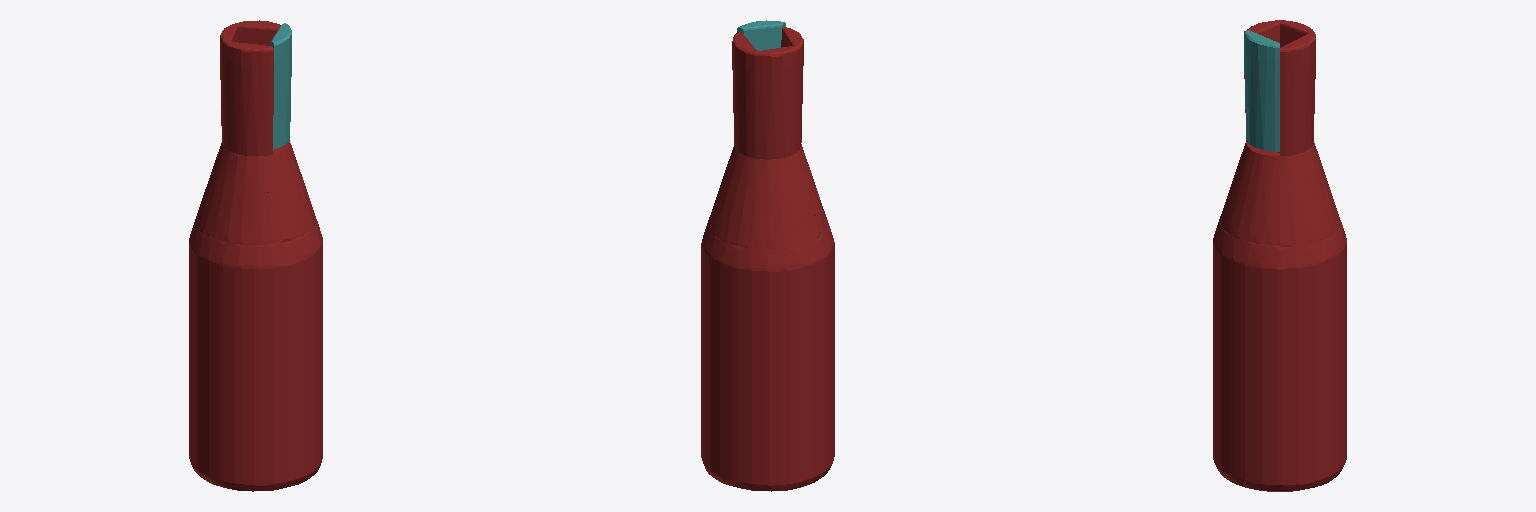
The robot description file, URDF, robot "root":
<robot name="root">
  <link name="bottle_body">
    <inertial>
      <origin xyz="0 0 0" rpy="0 0 0"/>
    </inertial>
    <mass value="1.00E-02"/>
    <visual>
      <origin xyz="0 0 0" rpy="0 0 0"/>
      <geometry>
        <mesh filename="core-bottle-244894af3ba967ccd957eaf7f4edb205-coacd_convex_piece_5.obj" scale="1.0000E-01 1.0000E-01 1.0000E-01"/>
      </geometry>
      <material name="">
        <color rgba="6.00E-01 2.00E-01 2.00E-01 1"/>
      </material>
    </visual>
    <collision>
      <origin xyz="0 0 0" rpy="0 0 0"/>
      <geometry>
        <mesh filename="core-bottle-244894af3ba967ccd957eaf7f4edb205-coacd_convex_piece_5.obj" scale="1.0000E-01 1.0000E-01 1.0000E-01"/>
      </geometry>
    </collision>
    <visual>
      <origin xyz="0 0 0" rpy="0 0 0"/>
      <geometry>
        <mesh filename="core-bottle-244894af3ba967ccd957eaf7f4edb205-coacd_convex_piece_3.obj" scale="1.0000E-01 1.0000E-01 1.0000E-01"/>
      </geometry>
      <material name="">
        <color rgba="6.00E-01 2.00E-01 2.00E-01 1"/>
      </material>
    </visual>
    <collision>
      <origin xyz="0 0 0" rpy="0 0 0"/>
      <geometry>
        <mesh filename="core-bottle-244894af3ba967ccd957eaf7f4edb205-coacd_convex_piece_3.obj" scale="1.0000E-01 1.0000E-01 1.0000E-01"/>
      </geometry>
    </collision>
    <visual>
      <origin xyz="0 0 0" rpy="0 0 0"/>
      <geometry>
        <mesh filename="core-bottle-244894af3ba967ccd957eaf7f4edb205-coacd_convex_piece_4.obj" scale="1.0000E-01 1.0000E-01 1.0000E-01"/>
      </geometry>
      <material name="">
        <color rgba="6.00E-01 2.00E-01 2.00E-01 1"/>
      </material>
    </visual>
    <collision>
      <origin xyz="0 0 0" rpy="0 0 0"/>
      <geometry>
        <mesh filename="core-bottle-244894af3ba967ccd957eaf7f4edb205-coacd_convex_piece_4.obj" scale="1.0000E-01 1.0000E-01 1.0000E-01"/>
      </geometry>
    </collision>
    <visual>
      <origin xyz="0 0 0" rpy="0 0 0"/>
      <geometry>
        <mesh filename="core-bottle-244894af3ba967ccd957eaf7f4edb205-coacd_convex_piece_2.obj" scale="1.0000E-01 1.0000E-01 1.0000E-01"/>
      </geometry>
      <material name="">
        <color rgba="6.00E-01 2.00E-01 2.00E-01 1"/>
      </material>
    </visual>
    <collision>
      <origin xyz="0 0 0" rpy="0 0 0"/>
      <geometry>
        <mesh filename="core-bottle-244894af3ba967ccd957eaf7f4edb205-coacd_convex_piece_2.obj" scale="1.0000E-01 1.0000E-01 1.0000E-01"/>
      </geometry>
    </collision>
    <visual>
      <origin xyz="0 0 0" rpy="0 0 0"/>
      <geometry>
        <mesh filename="core-bottle-244894af3ba967ccd957eaf7f4edb205-coacd_convex_piece_1.obj" scale="1.0000E-01 1.0000E-01 1.0000E-01"/>
      </geometry>
      <material name="">
        <color rgba="6.00E-01 2.00E-01 2.00E-01 1"/>
      </material>
    </visual>
    <collision>
      <origin xyz="0 0 0" rpy="0 0 0"/>
      <geometry>
        <mesh filename="core-bottle-244894af3ba967ccd957eaf7f4edb205-coacd_convex_piece_1.obj" scale="1.0000E-01 1.0000E-01 1.0000E-01"/>
      </geometry>
    </collision>
    <visual>
      <origin xyz="0 0 0" rpy="0 0 0"/>
      <geometry>
        <mesh filename="core-bottle-244894af3ba967ccd957eaf7f4edb205-coacd_convex_piece_6.obj" scale="1.0000E-01 1.0000E-01 1.0000E-01"/>
      </geometry>
      <material name="">
        <color rgba="6.00E-01 2.00E-01 2.00E-01 1"/>
      </material>
    </visual>
    <collision>
      <origin xyz="0 0 0" rpy="0 0 0"/>
      <geometry>
        <mesh filename="core-bottle-244894af3ba967ccd957eaf7f4edb205-coacd_convex_piece_6.obj" scale="1.0000E-01 1.0000E-01 1.0000E-01"/>
      </geometry>
    </collision>
    <visual>
      <origin xyz="0 0 0" rpy="0 0 0"/>
      <geometry>
        <mesh filename="core-bottle-244894af3ba967ccd957eaf7f4edb205-coacd_convex_piece_8.obj" scale="1.0000E-01 1.0000E-01 1.0000E-01"/>
      </geometry>
      <material name="">
        <color rgba="6.00E-01 2.00E-01 2.00E-01 1"/>
      </material>
    </visual>
    <collision>
      <origin xyz="0 0 0" rpy="0 0 0"/>
      <geometry>
        <mesh filename="core-bottle-244894af3ba967ccd957eaf7f4edb205-coacd_convex_piece_8.obj" scale="1.0000E-01 1.0000E-01 1.0000E-01"/>
      </geometry>
    </collision>
    <visual>
      <origin xyz="0 0 0" rpy="0 0 0"/>
      <geometry>
        <mesh filename="core-bottle-244894af3ba967ccd957eaf7f4edb205-coacd_convex_piece_7.obj" scale="1.0000E-01 1.0000E-01 1.0000E-01"/>
      </geometry>
      <material name="">
        <color rgba="6.00E-01 2.00E-01 2.00E-01 1"/>
      </material>
    </visual>
    <collision>
      <origin xyz="0 0 0" rpy="0 0 0"/>
      <geometry>
        <mesh filename="core-bottle-244894af3ba967ccd957eaf7f4edb205-coacd_convex_piece_7.obj" scale="1.0000E-01 1.0000E-01 1.0000E-01"/>
      </geometry>
    </collision>
  </link>
  <link name="bottle_cap">
    <origin xyz="0 0 0.002" rpy="0 0 0"/>
    <mass value="1.00E-02"/>
    <visual>
      <origin xyz="0 0 0.002" rpy="0 0 0"/>
      <geometry>
        <mesh filename="core-bottle-244894af3ba967ccd957eaf7f4edb205-coacd_convex_piece_0.obj" scale="1.0000E-01 1.0000E-01 1.0000E-01"/>
      </geometry>
      <material name="">
        <color rgba="3.00E-01 6.00E-01 6.00E-01 1"/>
      </material>
    </visual>
    <collision>
      <origin xyz="0 0 0.002" rpy="0 0 0"/>
      <geometry>
        <mesh filename="core-bottle-244894af3ba967ccd957eaf7f4edb205-coacd_convex_piece_0.obj" scale="1.0000E-01 1.0000E-01 1.0000E-01"/>
      </geometry>
    </collision>
  </link>
  <joint name="bottle_cap_joint" type="revolute">
    <origin xyz="0 0 0" rpy="0 0 0"/>
    <parent link="bottle_body"/>
    <child link="bottle_cap"/>
    <axis xyz="0 0 1"/>
    <limit lower="0.00" upper="6.28"/>
    <dynamics damping="0.05"/>
  </joint>
</robot>

--- Facts derived from the render (not from the file) ---
The picture shows the robot from 3 angles, left to right: view 1: azimuth 30°, elevation 25°; view 2: azimuth 150°, elevation 25°; view 3: azimuth 270°, elevation 25°; orthographic projection.
Model root with 2 links and 1 joints (1 revolute), rooted at bottle_body, posed every joint at zero.
Visible links, largest first — view 1: bottle_body, bottle_cap; view 2: bottle_body, bottle_cap; view 3: bottle_body, bottle_cap.
Boxes of the visible links, bbox=[...] form: bottle_body: bbox=[189, 20, 322, 491]; bottle_cap: bbox=[270, 23, 291, 149]; bottle_body: bbox=[701, 27, 834, 491]; bottle_cap: bbox=[737, 20, 785, 50]; bottle_body: bbox=[1213, 20, 1346, 491]; bottle_cap: bbox=[1244, 30, 1279, 151].
Size in the robot's own frame: 0.0536 by 0.0536 by 0.1918 metres.
Meshes: 9 distinct files referenced, 9 mesh visuals loaded (9 OBJ).